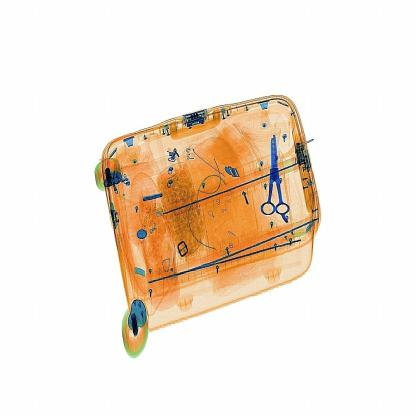gun: (256, 131, 291, 225)
